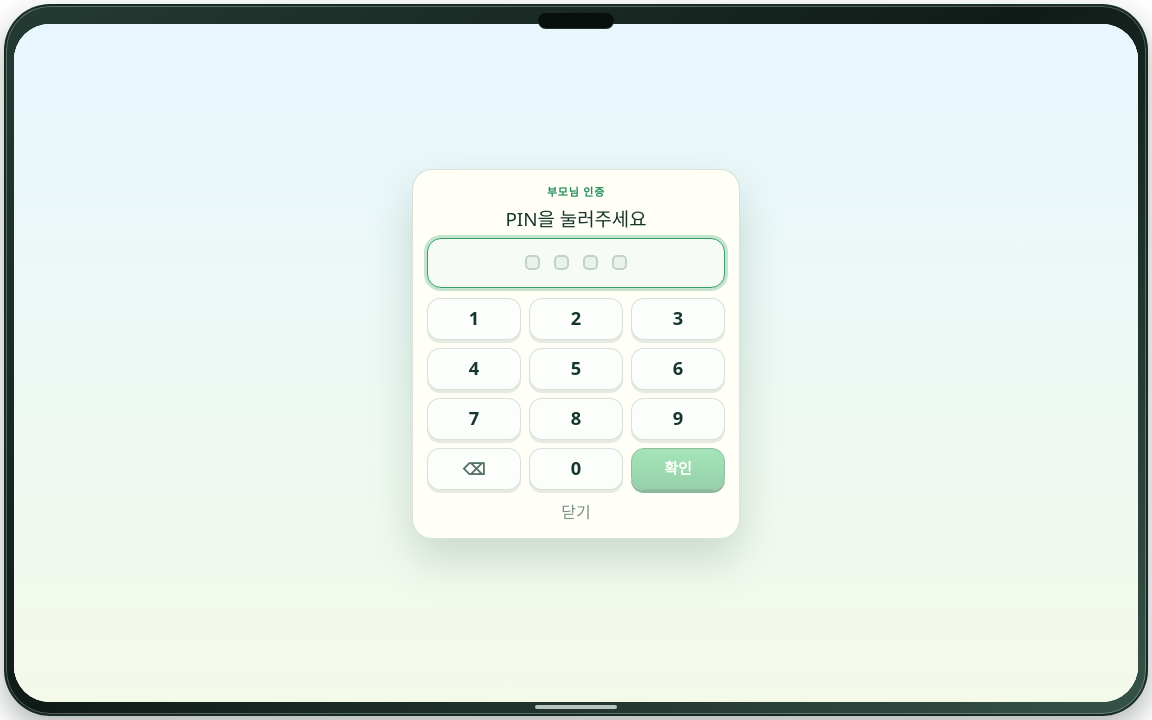
renderer interactions › shows admin status read errors even when no active timer was loaded
Click the button "1": [474, 319] box [427, 298, 521, 340]
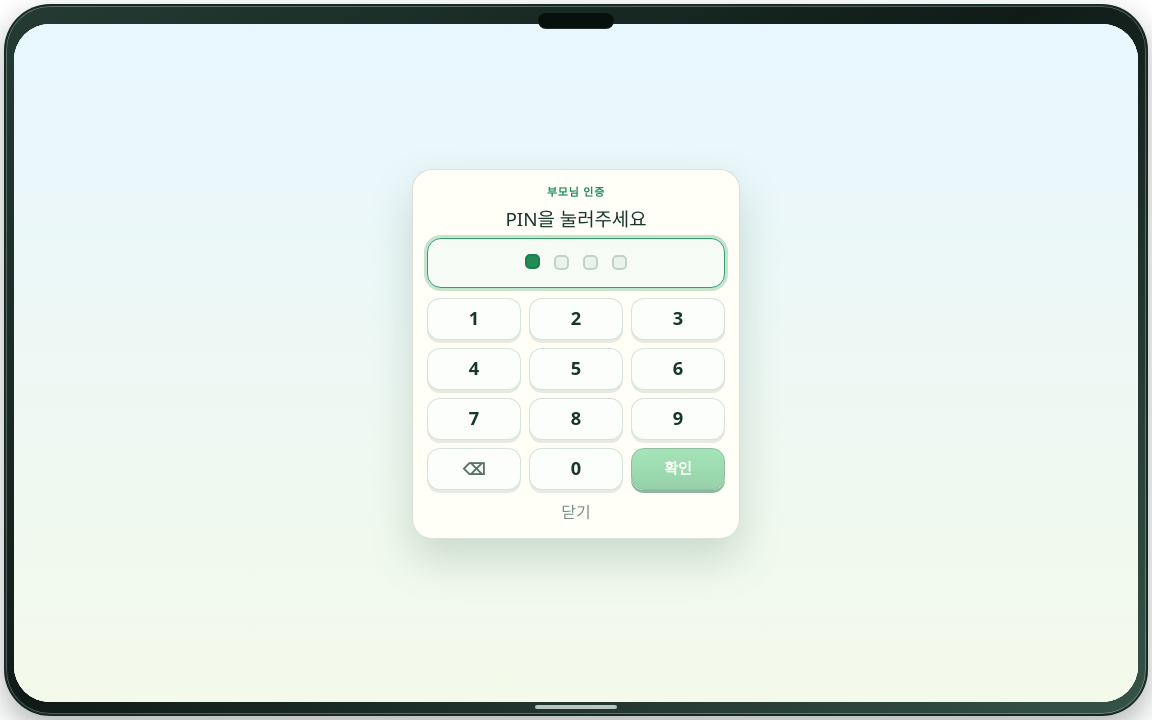
Click the button "2": [576, 319] box [529, 298, 623, 340]
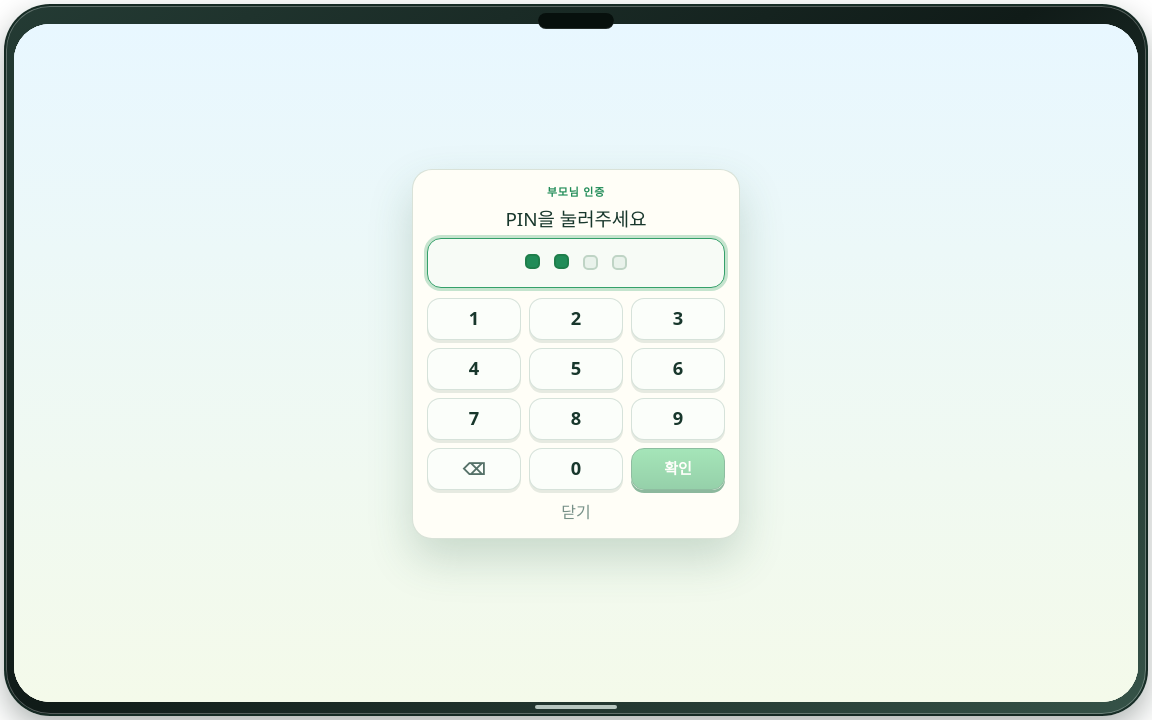
Click the button "3": [678, 319] box [631, 298, 725, 340]
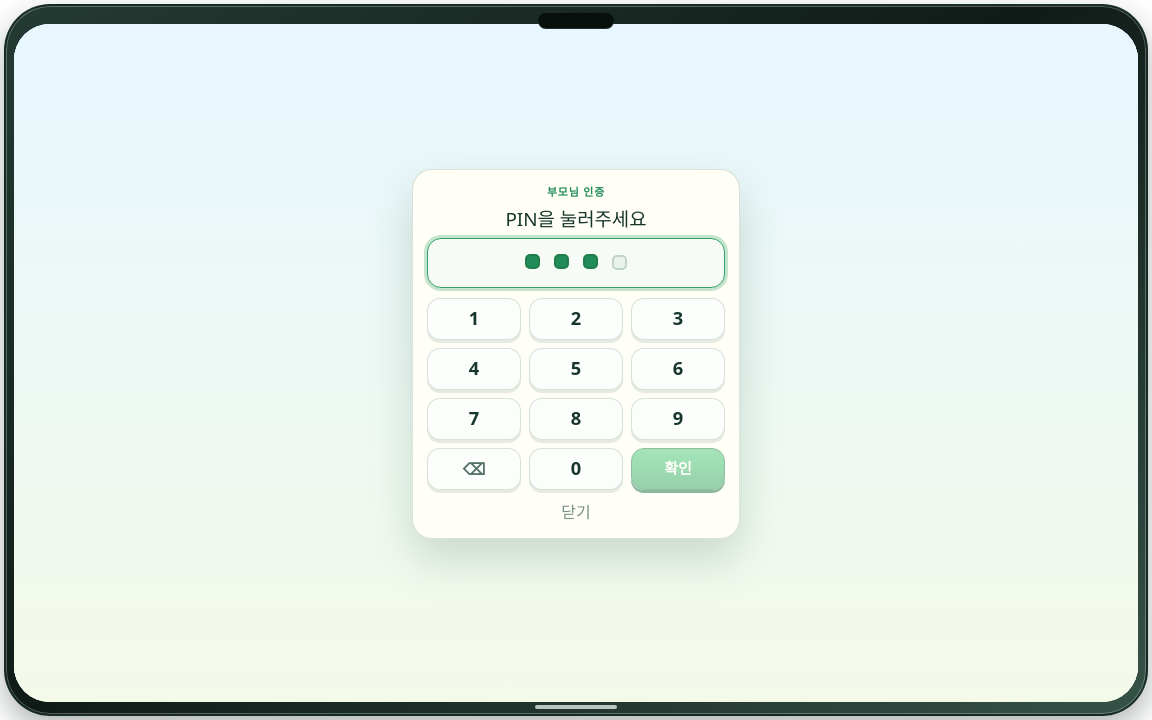
Click the button "4": [474, 369] box [427, 348, 521, 390]
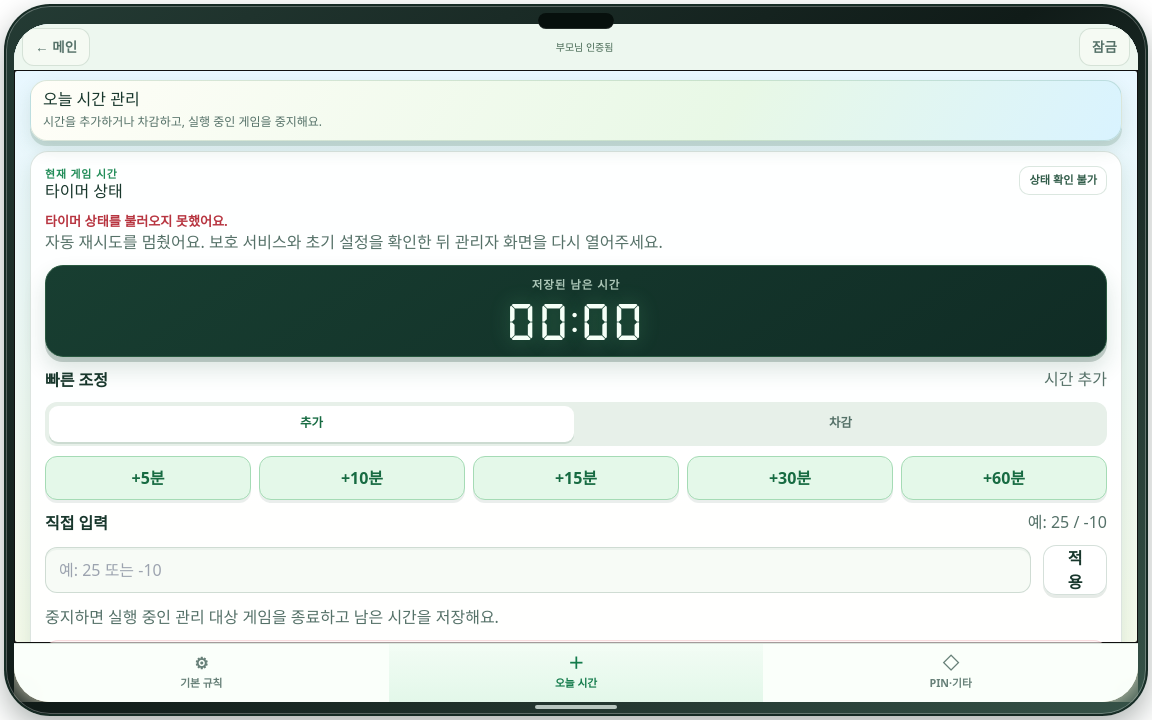
Expected: the text "타이머 상태를 불러오지 못했어요." is shown, [45, 212, 228, 230]
Expected: the text "상태 확인 불가" is shown, [1019, 166, 1107, 195]
